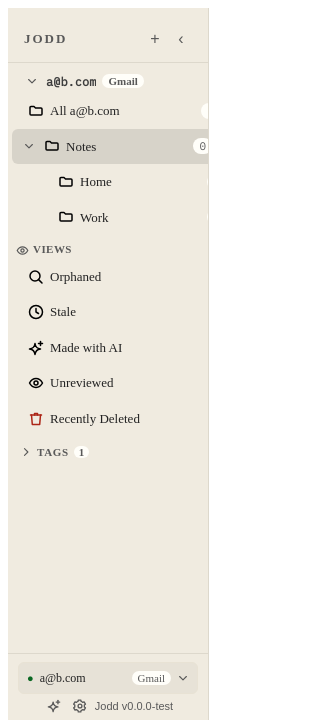
Test: folder menu › desktop still renders the anchored menu
This screenshot has width=320, height=720.
Expected: the text titled "Work" is shown, [80,210,109,224]
Right-click the button titled "Work".
right_click(66, 217)  # box [58,209,226,225]
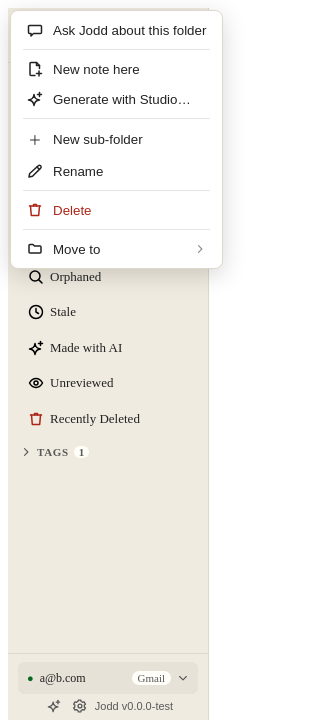
Result: the menu with class "folder-menu" is shown at [10,10,223,269]
